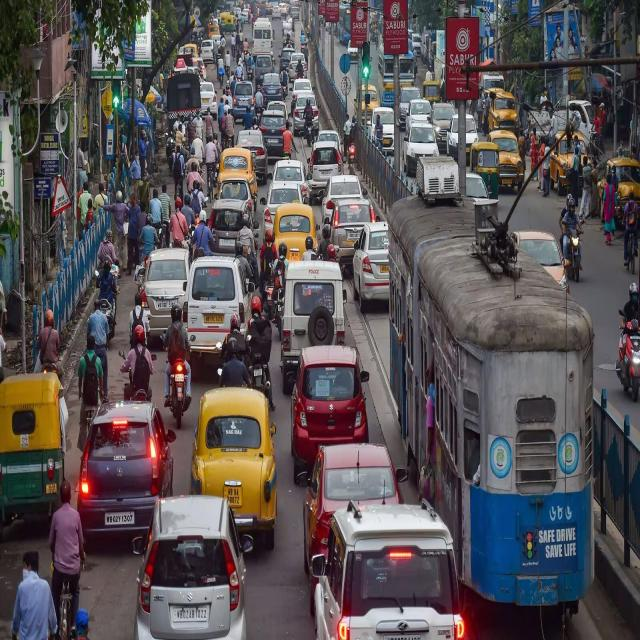plate: (170, 602, 211, 625), (221, 480, 244, 511), (104, 509, 138, 528), (384, 631, 423, 640), (204, 313, 224, 325), (44, 480, 58, 497), (156, 300, 178, 310), (218, 237, 236, 248), (174, 370, 185, 384), (289, 250, 300, 261), (319, 169, 332, 177), (380, 263, 390, 273), (252, 368, 262, 378), (347, 231, 360, 238), (501, 178, 513, 185), (268, 137, 278, 143), (629, 334, 640, 339), (383, 138, 389, 144), (441, 135, 447, 141), (350, 155, 355, 160), (308, 127, 312, 131), (466, 148, 470, 152)
